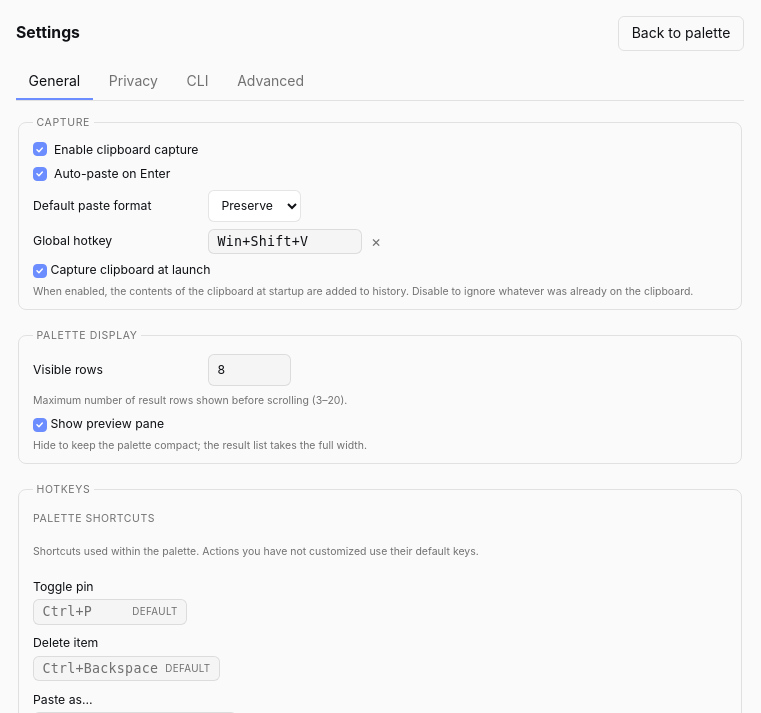
Scenario: SettingsView Advanced tab — capability table › renders Windows capabilities — permissions UI Unsupported, updates Available
This screenshot has width=761, height=713.
What coordinates should you click on to do the following:
click the tab "Advanced"
I would click on:
 (271, 82)
Its box is [224, 65, 317, 100].
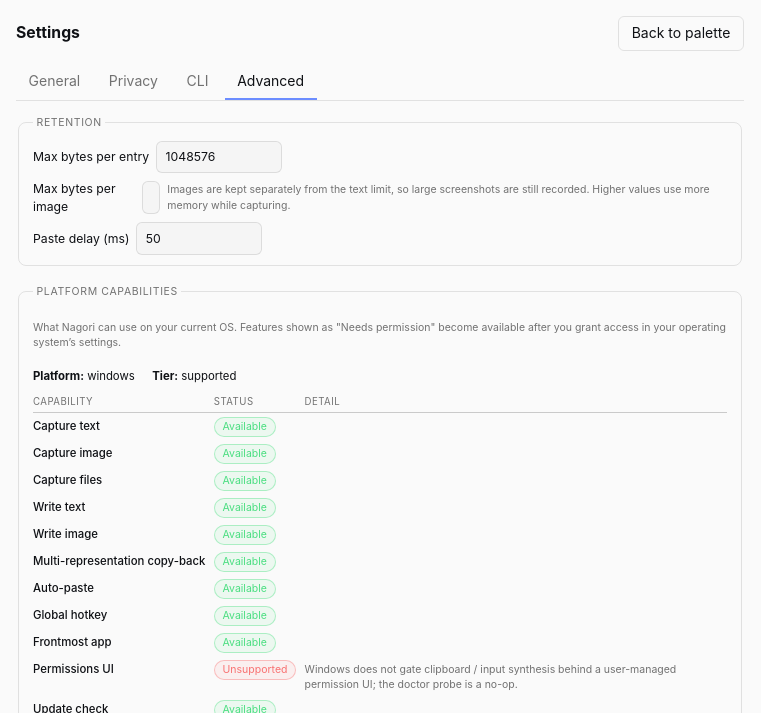
Result: the text "Platform capabilities" is shown at [33, 284, 181, 299]
Result: the text with class "capability-status" next to "Capture text" reads "Available" at [222, 420, 267, 433]
Result: the text with class "capability-status" reads "Unsupported" at [222, 663, 287, 676]
